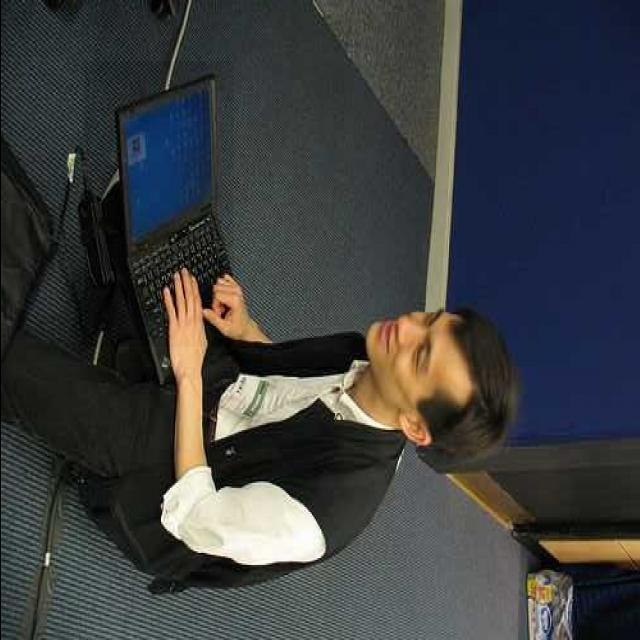-keyboard-: (84, 61, 234, 347)
